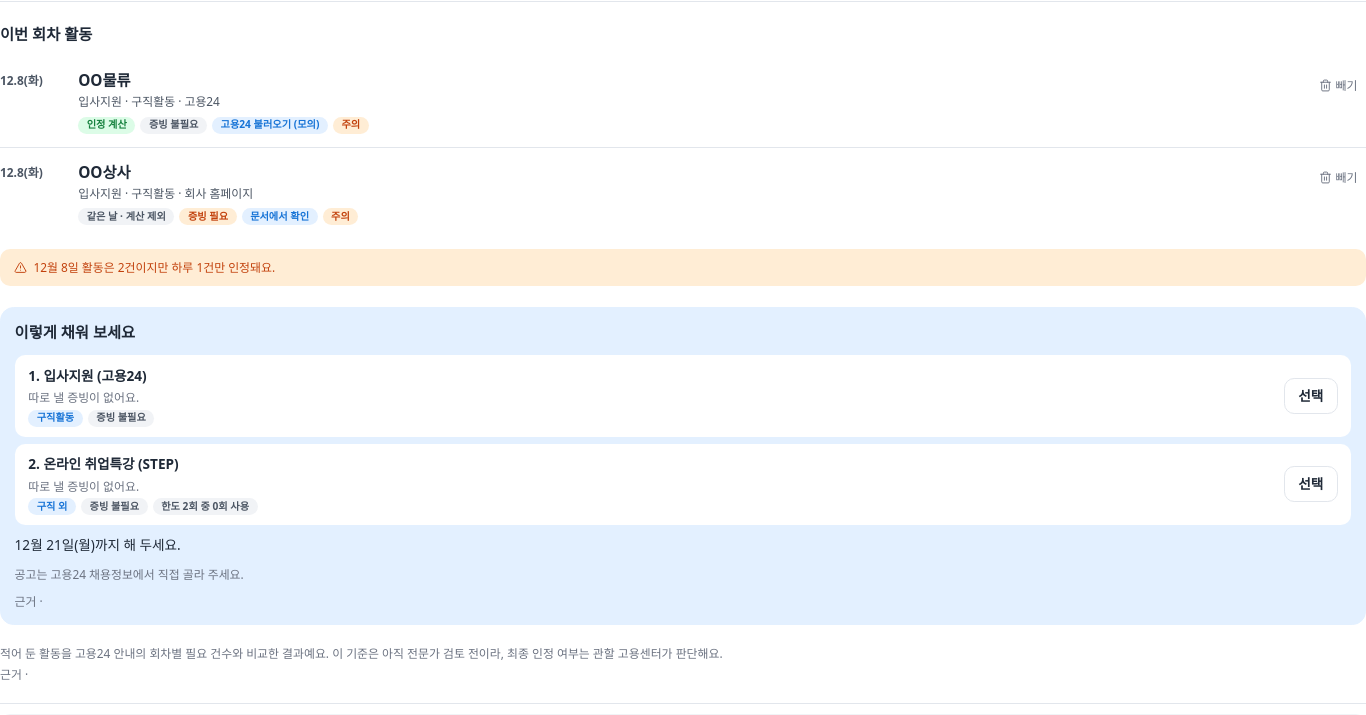
RoundPanel › 추천 요청이 오면 추천 상자를 펼치고, 선택하면 예정 활동으로 들어간다
(page scrolled)
Expected: the text "한도 2회 중 0회 사용" is shown, [153,498,258,515]
What coordinates should you click on to do the following:
click the button with aria-label "입사지원 (고용24) 선택"
I would click on:
 (1311, 396)
Its box is [1284,378,1338,414].
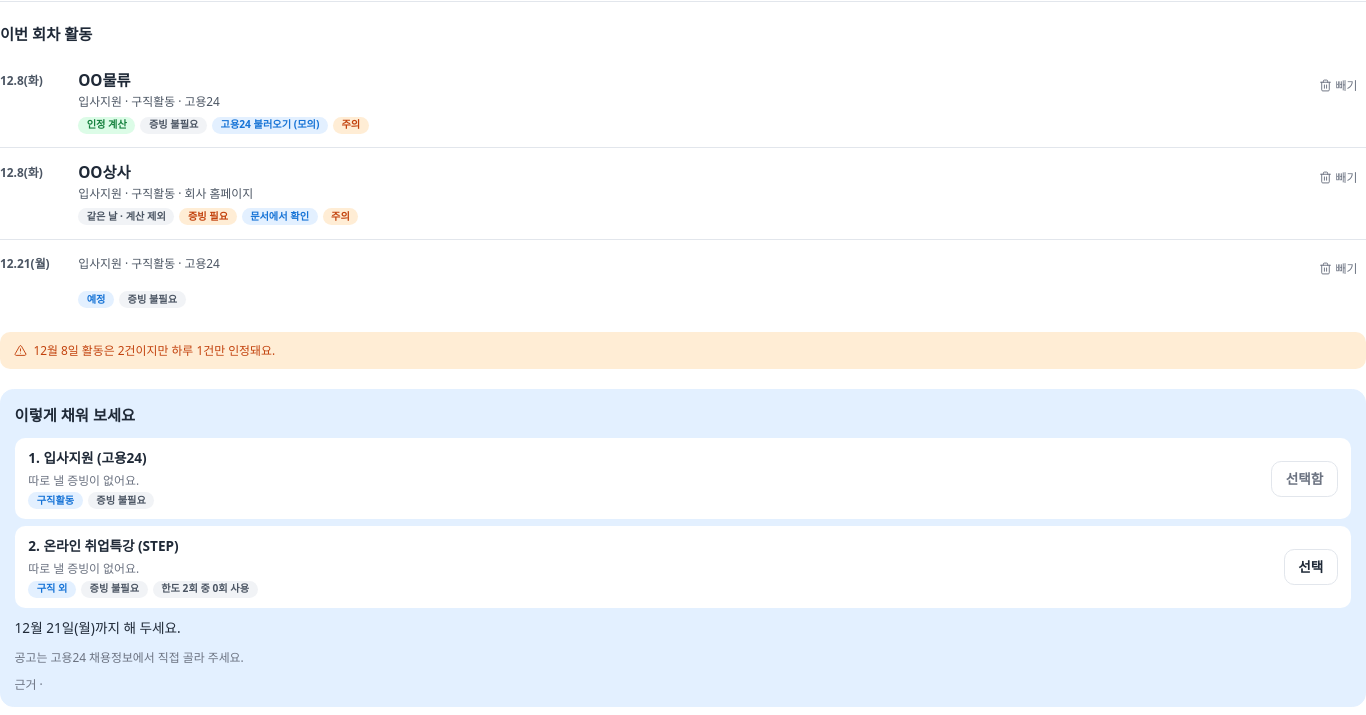
Result: the text "예정" is shown at [78,291,114,308]
Result: the button with aria-label "입사지원 (고용24) 선택" is disabled at [1271,461,1338,497]
